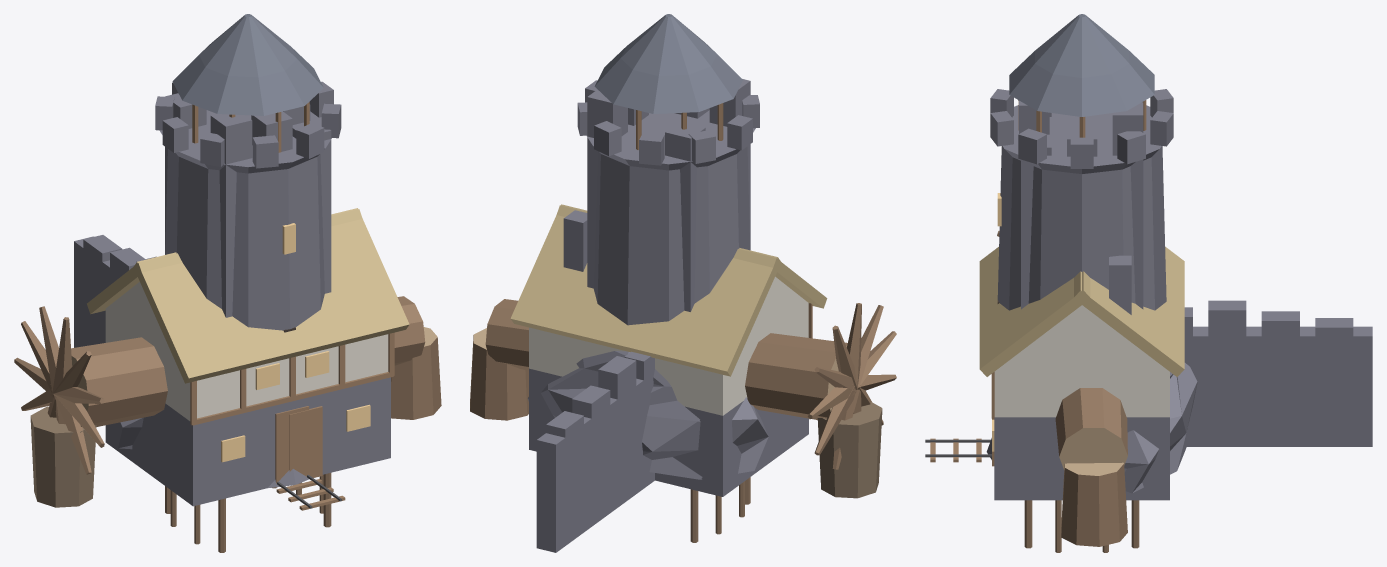
Rendered from worldkit.glb.
The picture shows the model from 3 angles, left to right: view 1: azimuth 30°, elevation 25°; view 2: azimuth 150°, elevation 25°; view 3: azimuth 270°, elevation 25°; orthographic projection. The views are drawn at different scales.
Parts seen in each view (by area): view 1: Farmhouse, Watchtower, TrunkArch, DrownedChapel, MineMouth, StiltHut, Boardwalk; view 2: Watchtower, Farmhouse, DrownedChapel, TrunkArch, MineMouth, StiltHut; view 3: Watchtower, Farmhouse, DrownedChapel, TrunkArch, MineMouth, StiltHut.
Part boxes in pixels (x1=…): Farmhouse: x1=87, y1=208, x2=409, y2=506; Watchtower: x1=155, y1=14, x2=341, y2=488; TrunkArch: x1=14, y1=296, x2=441, y2=507; DrownedChapel: x1=74, y1=93, x2=331, y2=347; MineMouth: x1=118, y1=417, x2=345, y2=510; StiltHut: x1=165, y1=473, x2=331, y2=552; Boardwalk: x1=170, y1=474, x2=323, y2=544; Watchtower: x1=577, y1=14, x2=759, y2=325; Farmhouse: x1=510, y1=204, x2=827, y2=496; DrownedChapel: x1=536, y1=79, x2=750, y2=552; TrunkArch: x1=470, y1=299, x2=896, y2=498; MineMouth: x1=527, y1=351, x2=768, y2=479; StiltHut: x1=690, y1=477, x2=750, y2=542; Watchtower: x1=986, y1=14, x2=1173, y2=459; Farmhouse: x1=979, y1=246, x2=1184, y2=500; DrownedChapel: x1=1019, y1=100, x2=1372, y2=446; TrunkArch: x1=997, y1=230, x2=1127, y2=546; MineMouth: x1=925, y1=363, x2=1197, y2=493; StiltHut: x1=1024, y1=500, x2=1139, y2=548.
Size of the model in its own units: 12.39 by 14.6 by 11.7.
